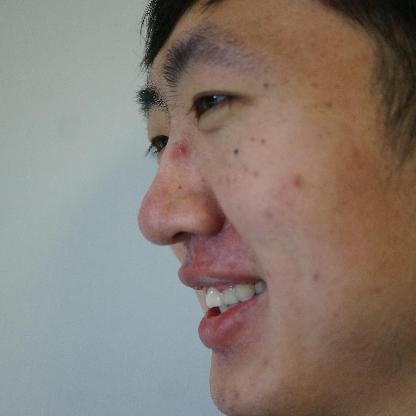Blackheads: (169, 177, 188, 197), (226, 144, 247, 160), (259, 76, 274, 95)
Papules: (285, 166, 315, 194), (169, 136, 194, 165), (304, 267, 329, 288)
